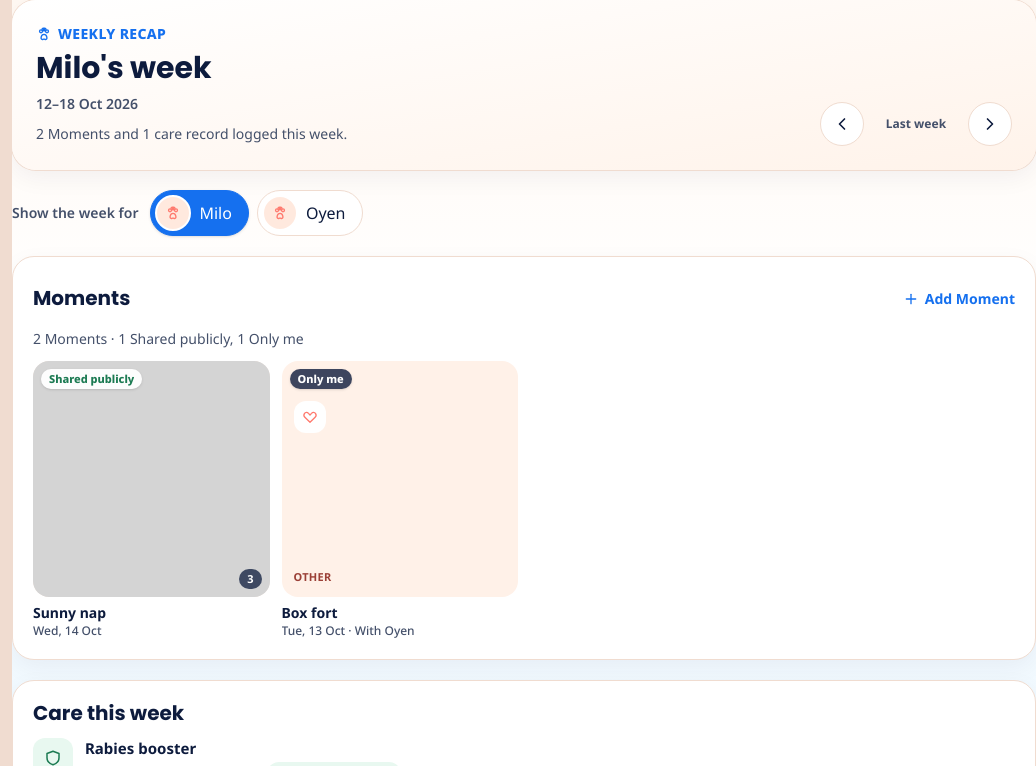
Test case: Weekly Recap page › moves between weeks within the bounds, keeping the address in step
This screenshot has width=1036, height=766.
Expected: the text "12–18 Oct 2026" is shown, [36, 94, 138, 114]
What coordinates should you click on to do the following:
click the button named "Next week, 19 October to 25 October"
I would click on:
 (990, 124)
Its box is [968, 102, 1012, 146].
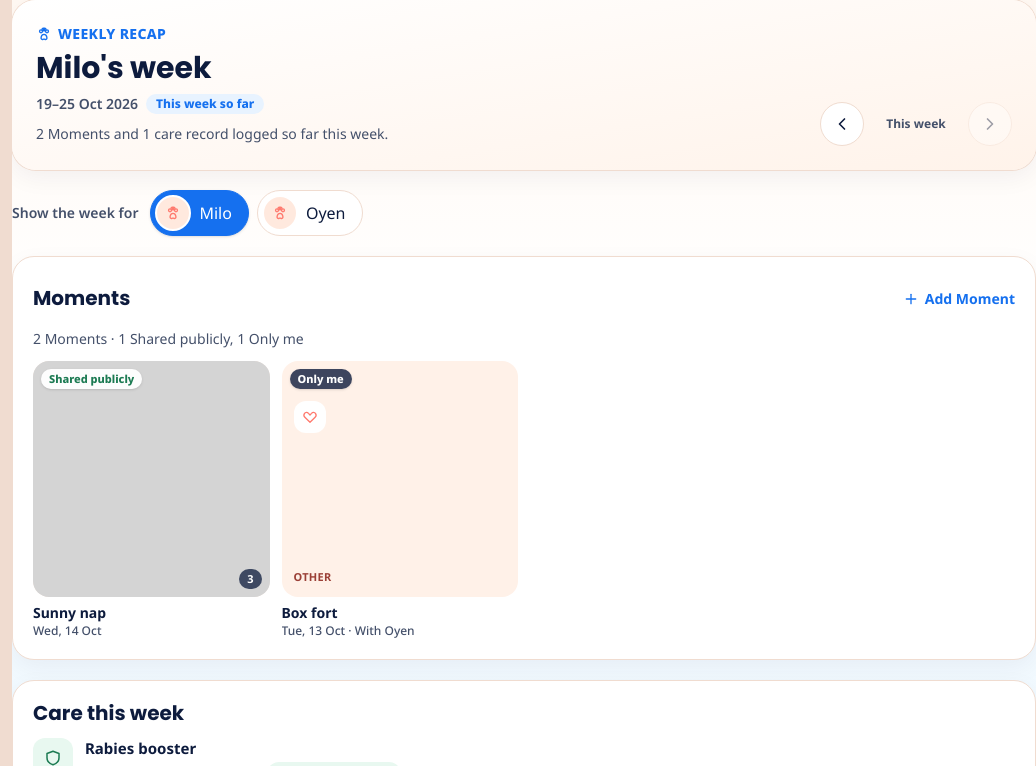
Now the text "This week so far" is shown, box [146, 94, 264, 114]
